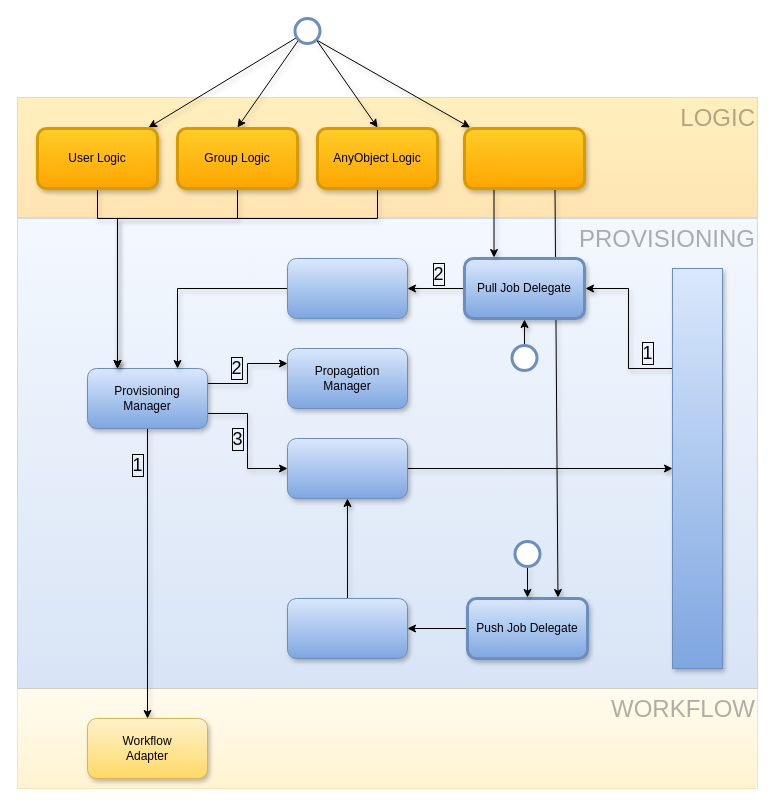
Some shapes in this 775 by 806 pixel diagram are drawn without their labels. The centre of each missing label's shape, as x and y in pixels:
Connectors: the point at 698,470
Propagation Task Executor: the point at 348,470
Pull Result Handler: the point at 348,290
Push Result Handler: the point at 348,630
Task Logic: the point at 525,159
